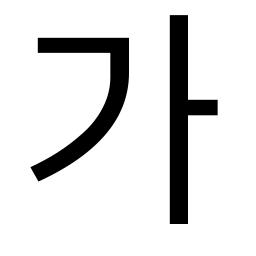Gaji: (157, 85, 204, 131)
